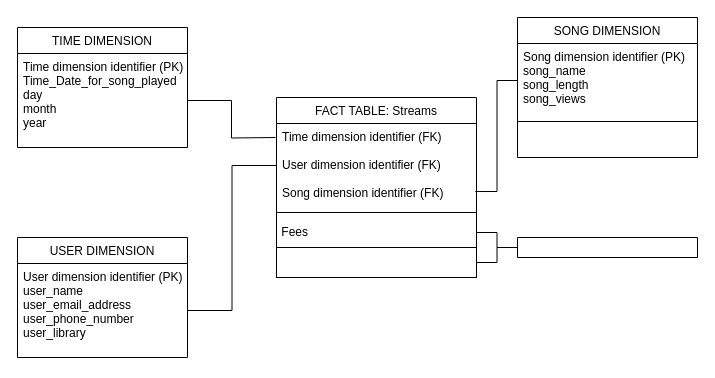
The diagram is 715 pixels wide and 378 high, and some of its shapes have lost their labels. The shapes that lost their labels are listed below. From the top down, each one's centre as x and y in pixels, then its label:
pixel 376 262: Count
pixel 607 247: MEASURES
